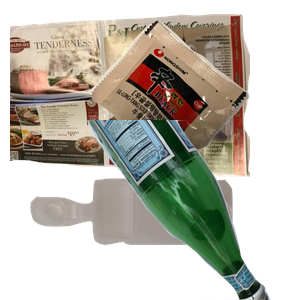glass: (75, 120, 300, 300)
paper: (10, 11, 250, 180)
plastic: (28, 176, 253, 300)
trash: (86, 18, 300, 194)
